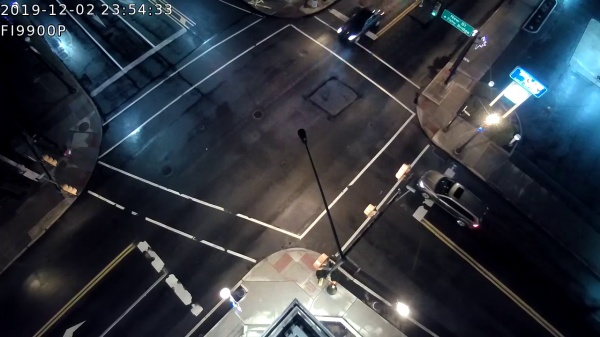car: (410, 165, 486, 226), (336, 1, 390, 48)
